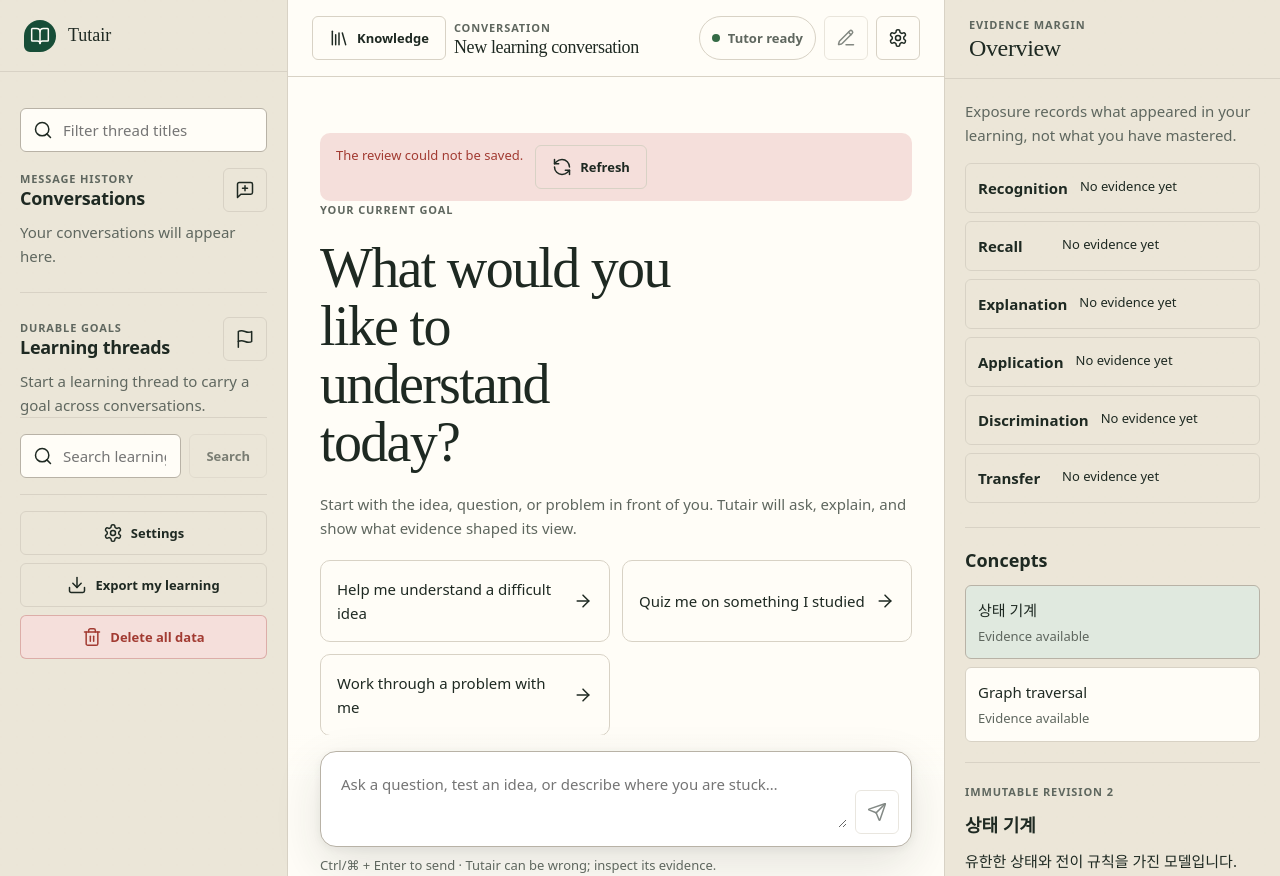
Test: knowledge manager › opens from the workspace header and browses searchable status-filtered definitions
The image size is (1280, 876).
Click the button with aria-label "Manage knowledge". click: click(379, 38)
box: [312,16,446,60]
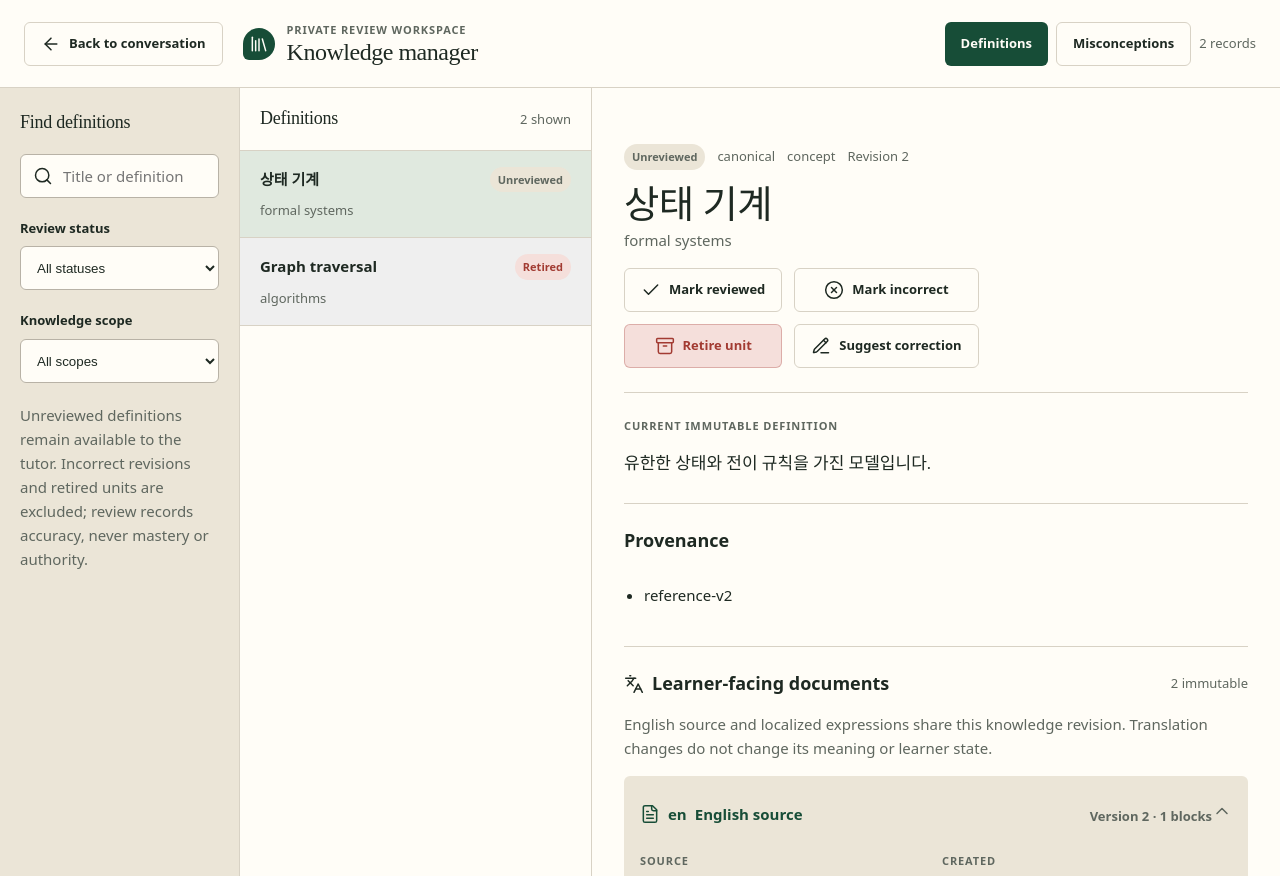
Expected: the heading "Knowledge manager" is shown, [286,39,478,66]
Expected: the list item "reference-v2" is shown, [644,586,732,606]
Type "graph" into the search field named "Search knowledge". click: (134, 176)
box: [61,163,206,189]
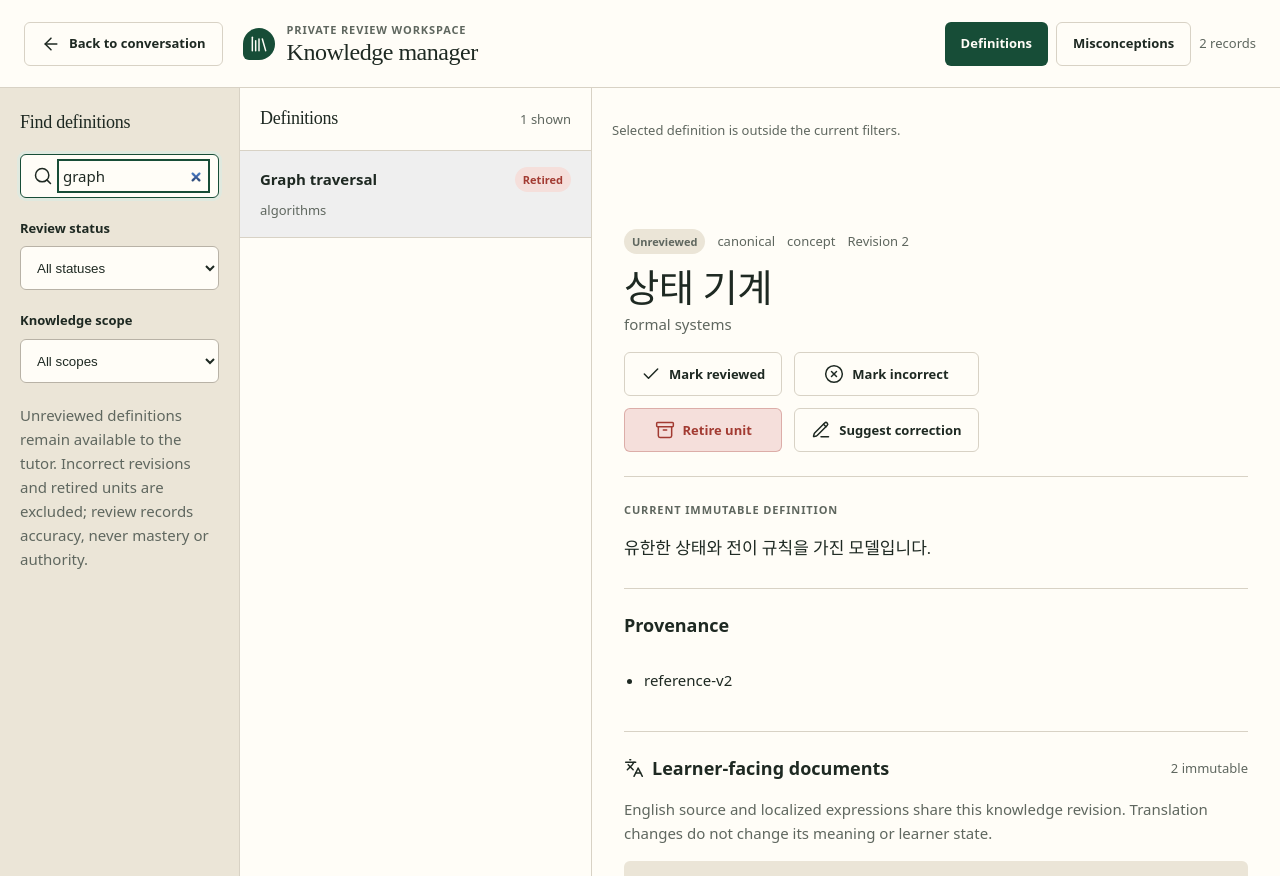
Expected: the button "Graph traversal retired algorithms" is shown, [240,151,591,238]
Select "Unreviewed" in the dropdown labelled "Review status". click: (120, 268)
box: [20,246,219,290]
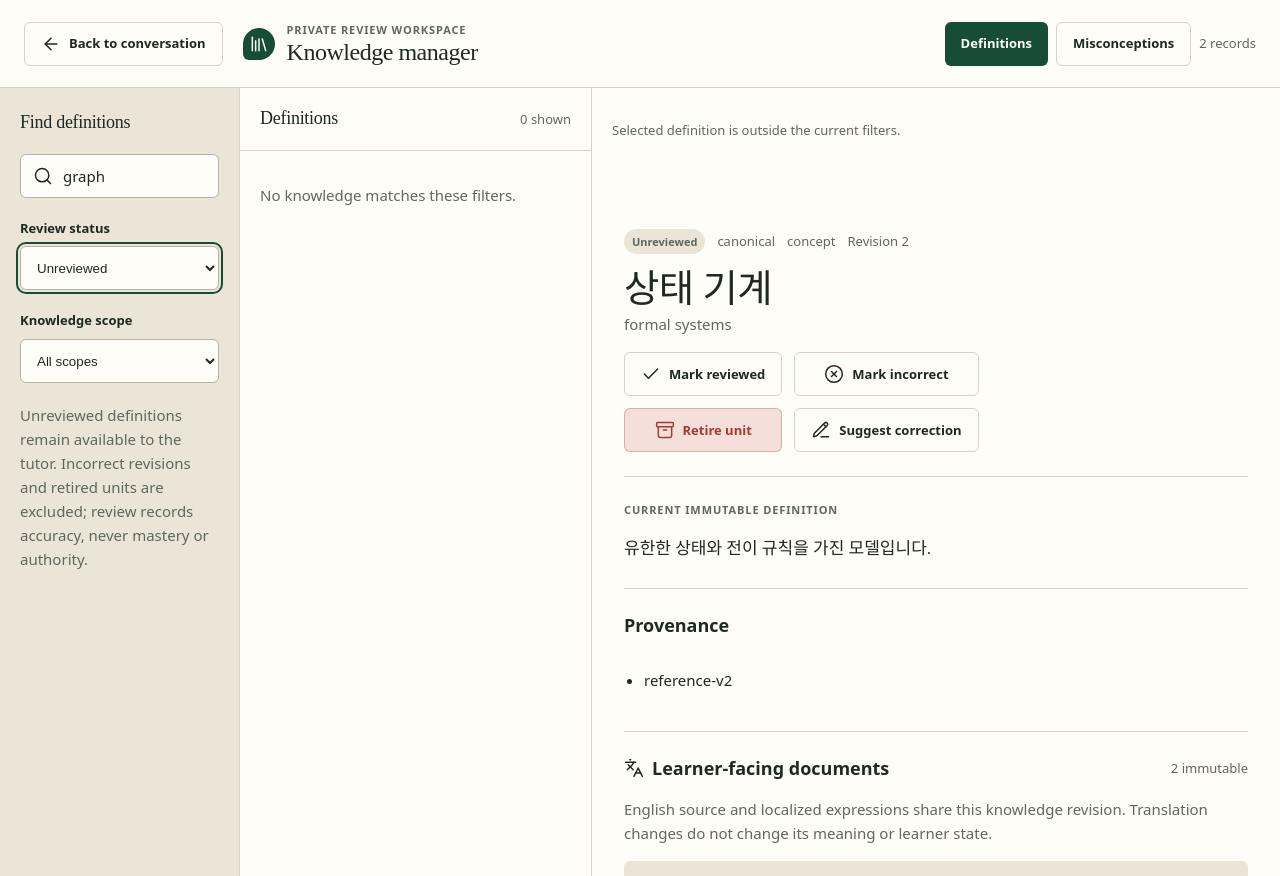
Expected: the message shows "outside the current filters", [612,121,900,139]
Expected: the text "No knowledge matches these filters." is shown, [260,185,516,205]
